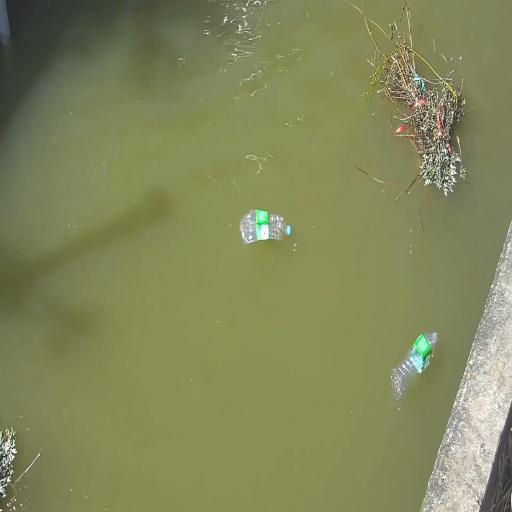plastic: (392, 333, 437, 401), (240, 210, 290, 244), (286, 224, 291, 236)
twig: (362, 1, 466, 196), (0, 429, 17, 497)
